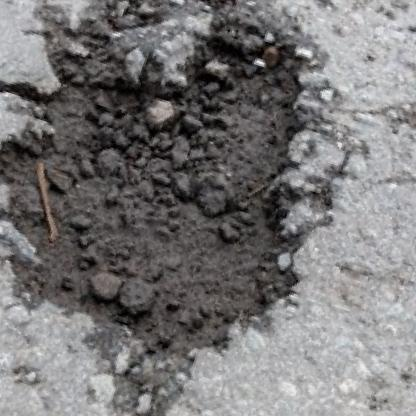pothole: (0, 0, 403, 408)
